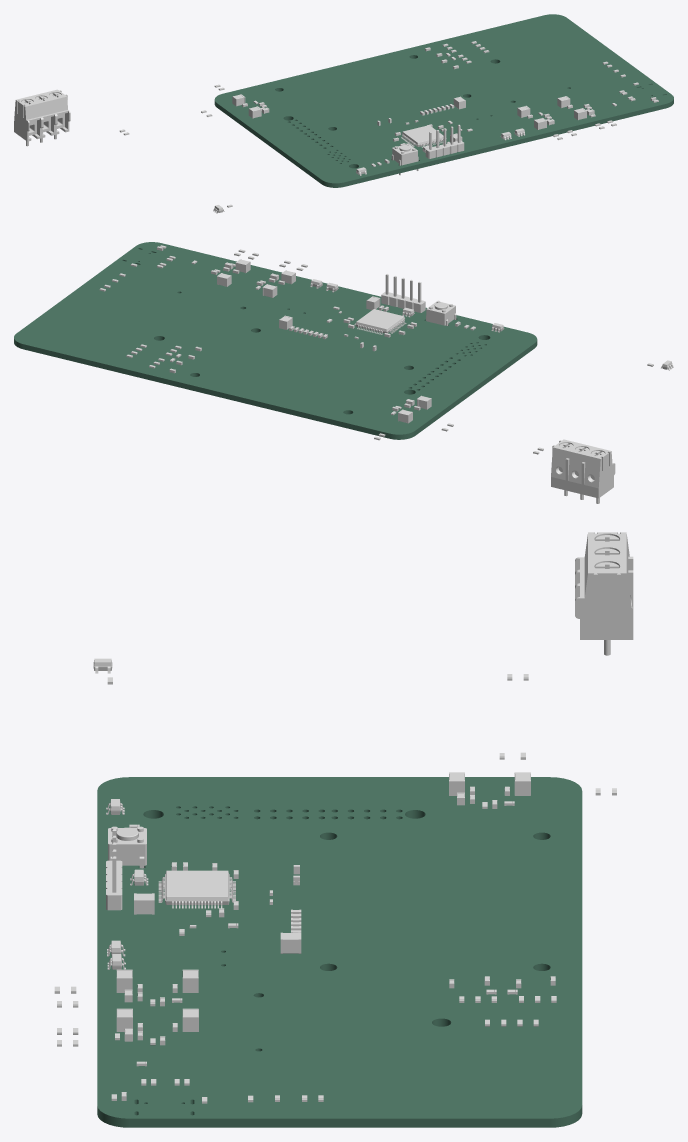
The model's file is nautilus_mainboard-3D.glb.
3 renders of one model, top to bottom at view 1: azimuth 30°, elevation 25°; view 2: azimuth 150°, elevation 25°; view 3: azimuth 270°, elevation 25°, orthographic. The views are drawn at different scales.
Visible parts, largest first — view 1: =>[0:1:1:14], J5, J4, IC1, SW1; view 2: =>[0:1:1:14], J5, J4, IC1, SW1; view 3: =>[0:1:1:14], J5, IC1, SW1, J4.
Part boxes in pixels (x1=…): =>[0:1:1:14]: x1=214, y1=14, x2=673, y2=187; J5: x1=14, y1=89, x2=70, y2=146; J4: x1=425, y1=124, x2=464, y2=158; IC1: x1=401, y1=125, x2=446, y2=147; SW1: x1=391, y1=143, x2=418, y2=175; =>[0:1:1:14]: x1=14, y1=242, x2=537, y2=439; J5: x1=551, y1=439, x2=615, y2=503; J4: x1=381, y1=274, x2=425, y2=312; IC1: x1=354, y1=309, x2=406, y2=334; SW1: x1=426, y1=300, x2=456, y2=325; =>[0:1:1:14]: x1=97, y1=777, x2=582, y2=1127; J5: x1=575, y1=532, x2=633, y2=655; IC1: x1=158, y1=870, x2=235, y2=908; SW1: x1=108, y1=826, x2=146, y2=868; J4: x1=106, y1=828, x2=122, y2=910.
Size of the model in its own units: 0.19 by 0.015 by 0.0895.
